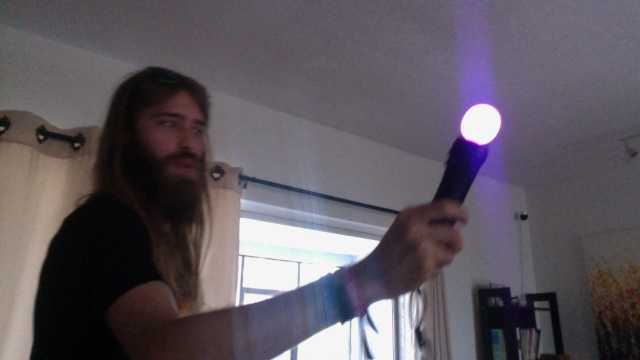wand: (459, 104, 501, 146)
